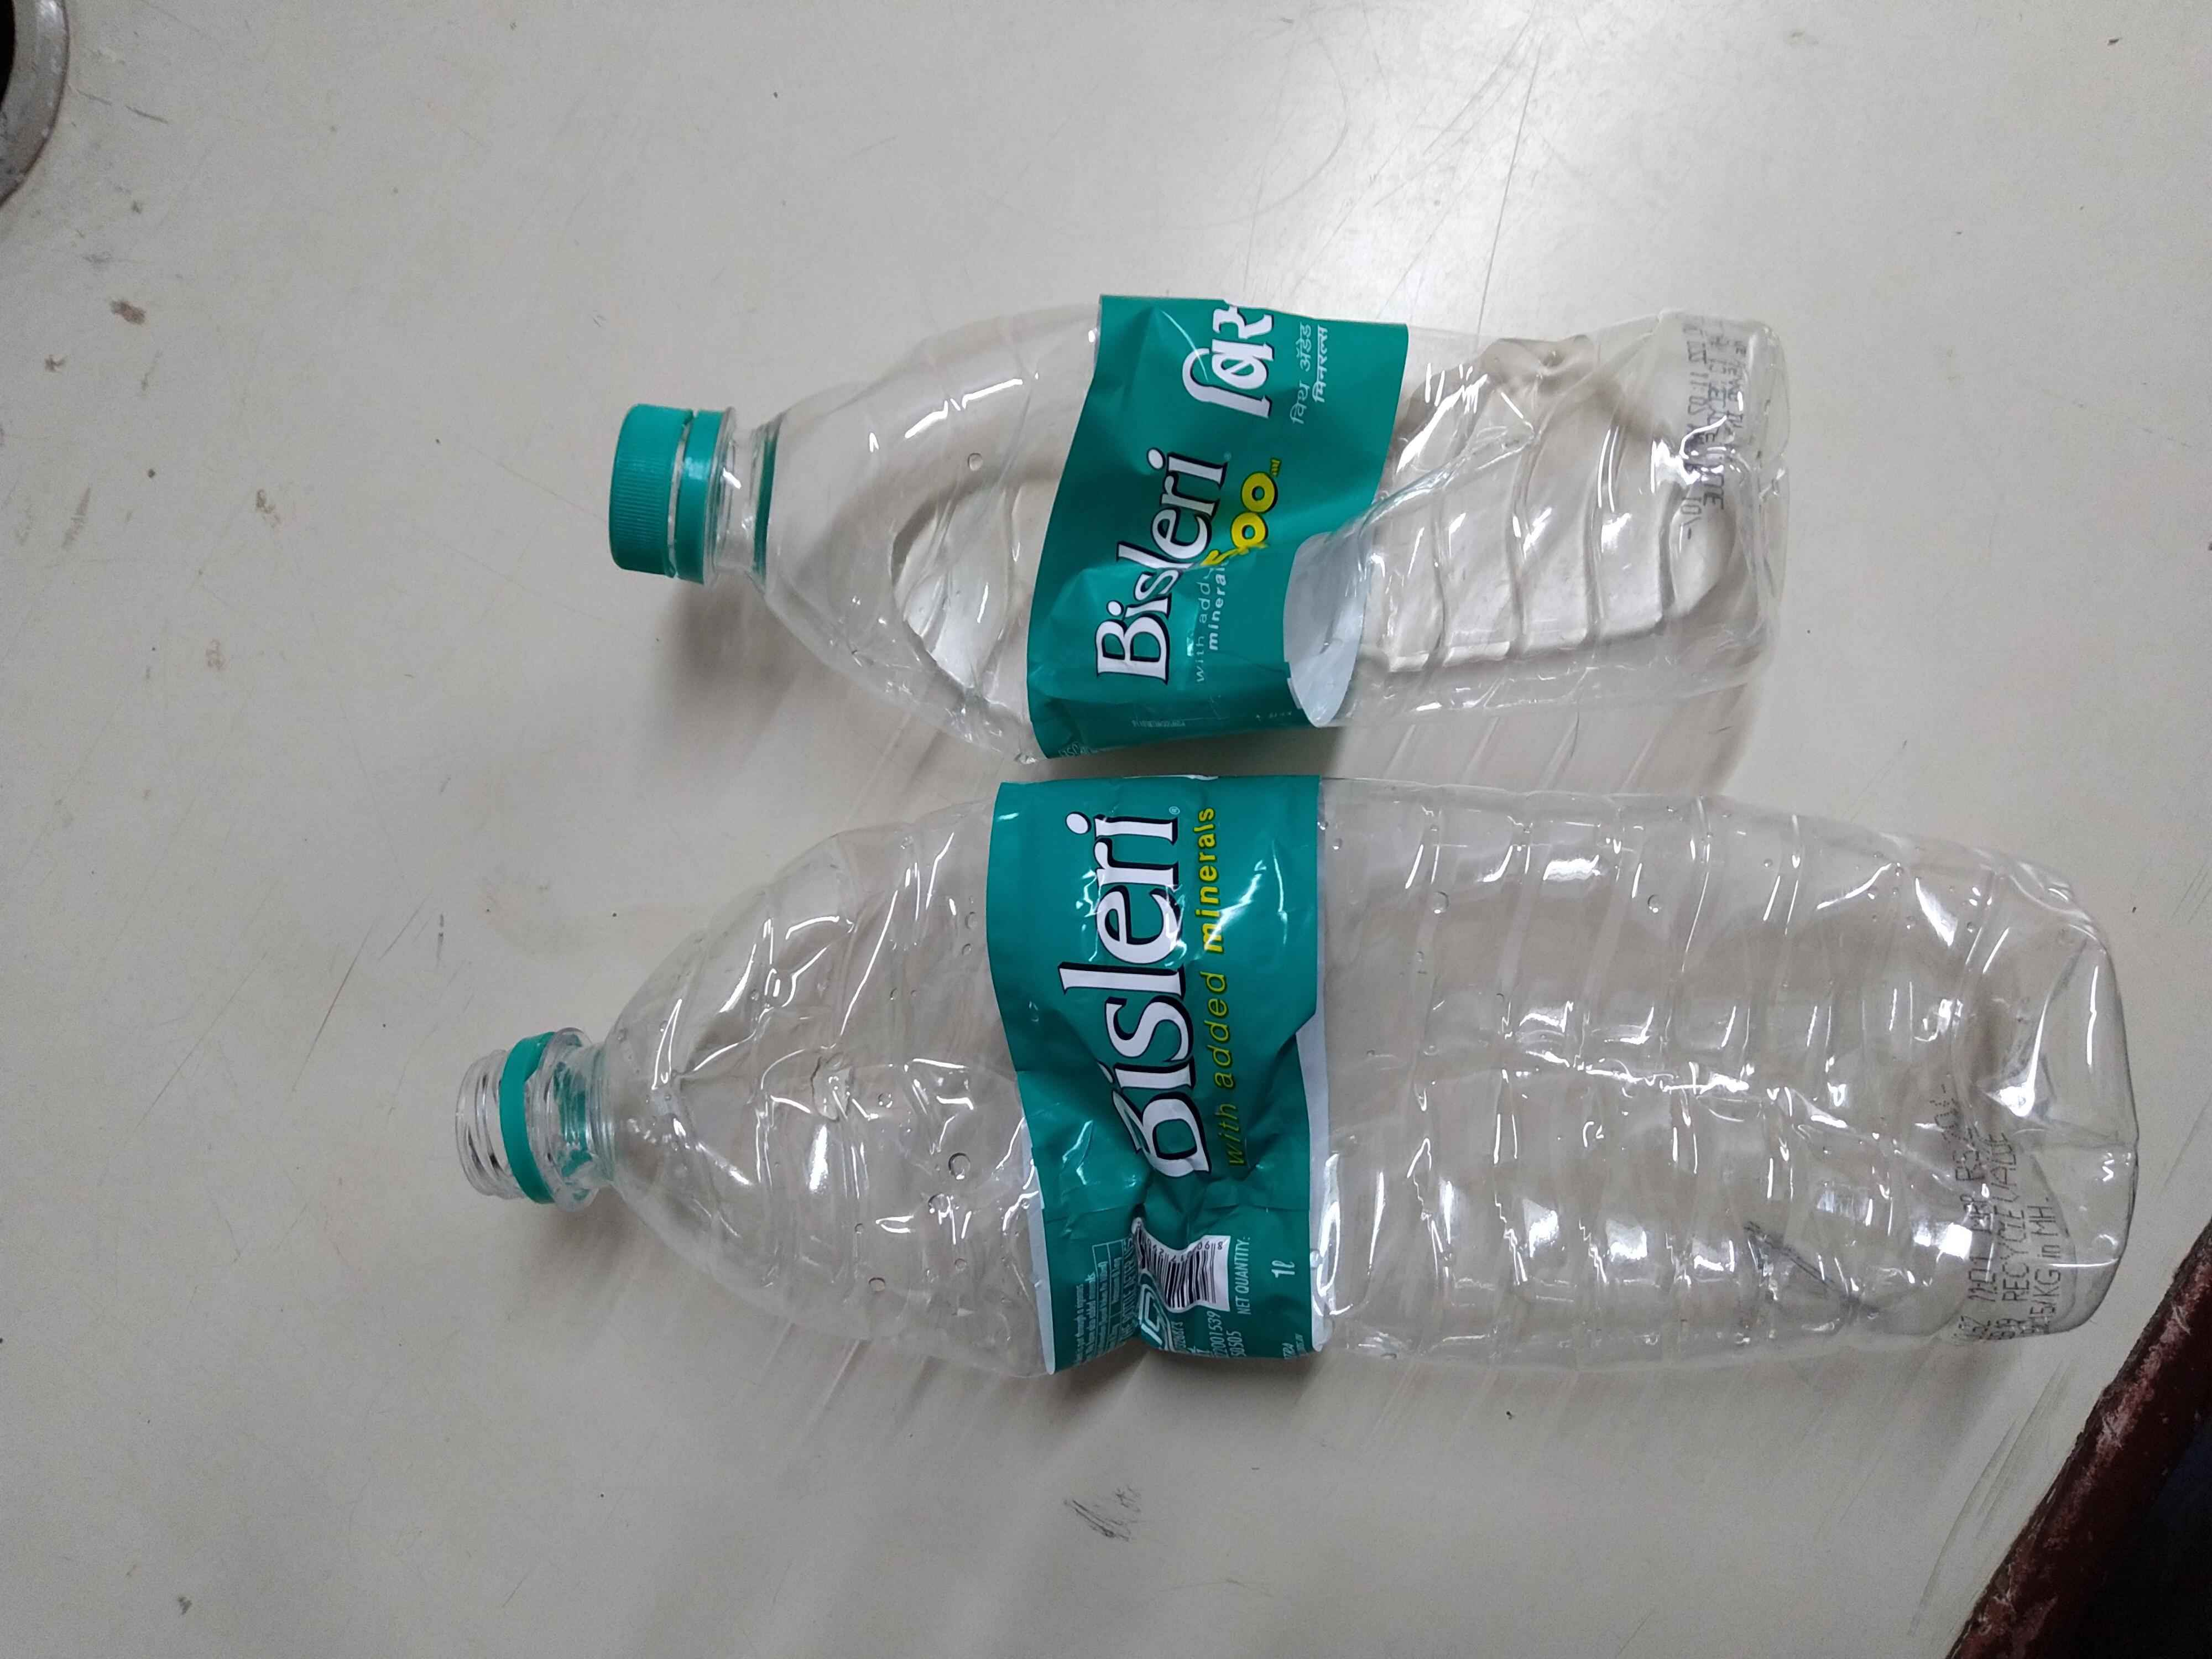Bisleri: (1026, 786, 1317, 1354), (1096, 284, 1299, 721)
